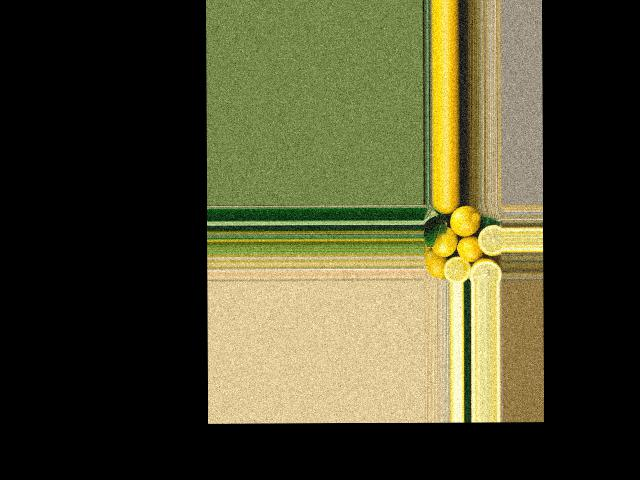lemon: (424, 249, 447, 279)
